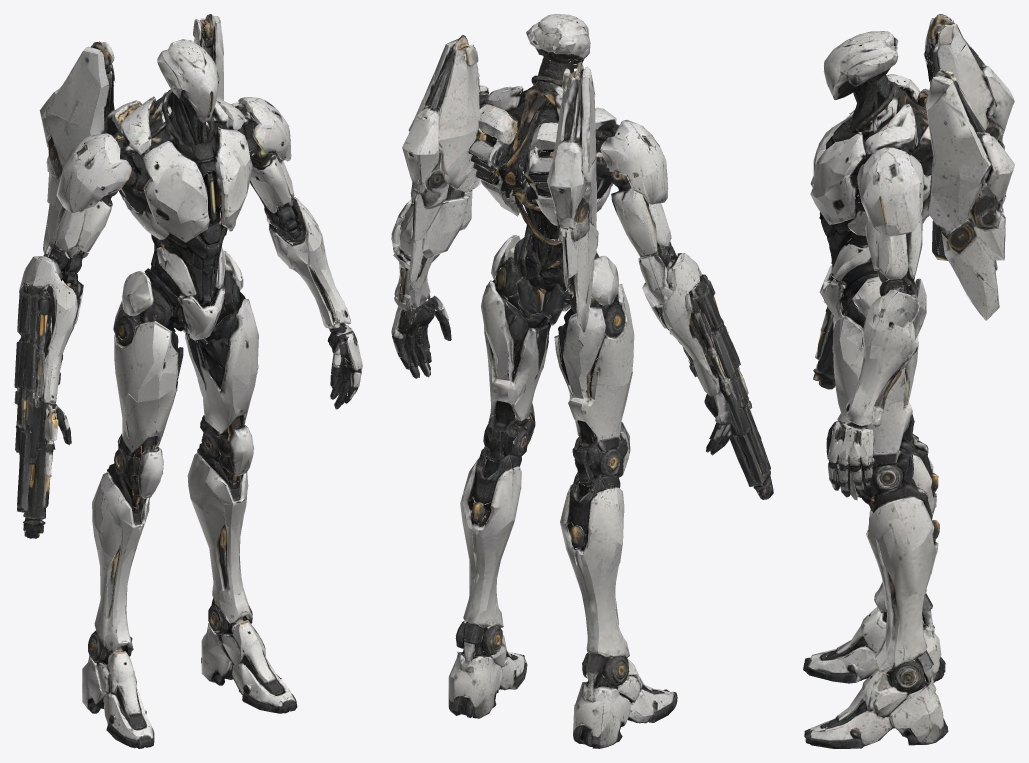
The model's file is nx-coloso-riel.glb.
3 views of the same model, side by side, from view 1: azimuth 30°, elevation 25°; view 2: azimuth 150°, elevation 25°; view 3: azimuth 270°, elevation 25° (orthographic). The views are drawn at different scales.
Visible parts, largest first — view 1: Mesh_0; view 2: Mesh_0; view 3: Mesh_0.
Part boxes in pixels (x1,y1,x2,y2): Mesh_0: (14,14,362,748); Mesh_0: (391,14,773,748); Mesh_0: (803,14,1014,748).
Size of the model in its own units: 1.05 by 1.9 by 0.5421.
Materials: 1 (1 with a texture image).
